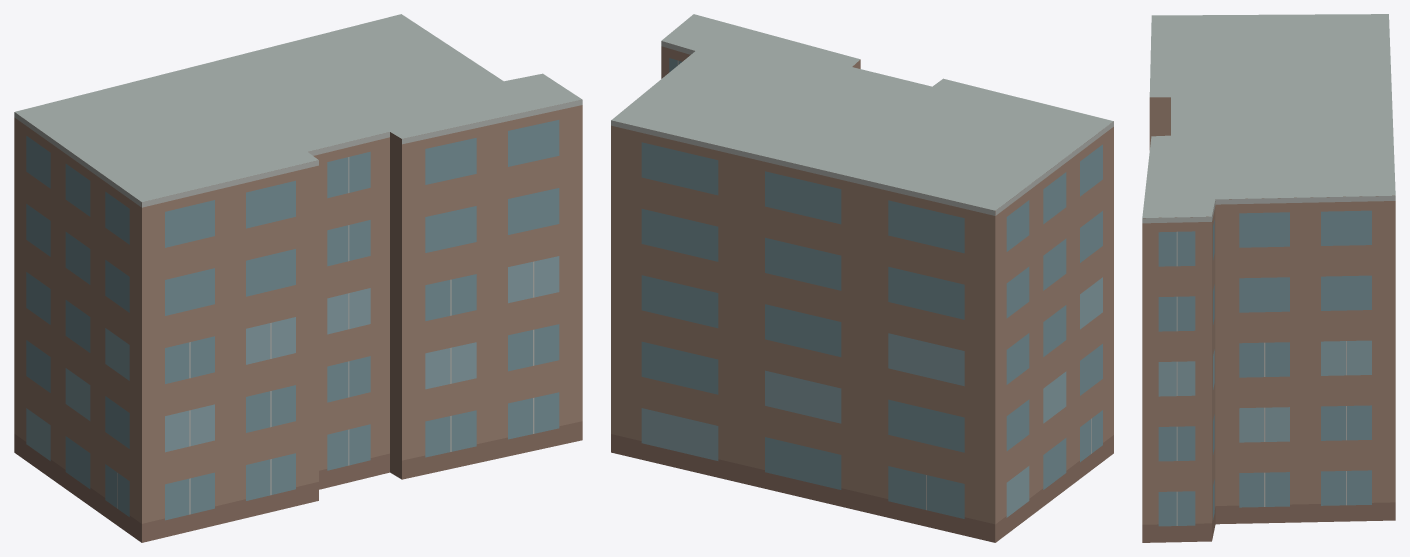
The model's file is survey-upis-32579464.glb.
3 renders of one model, left to right at view 1: azimuth 30°, elevation 25°; view 2: azimuth 150°, elevation 25°; view 3: azimuth 270°, elevation 25°, orthographic. The views are drawn at different scales.
Parts seen in each view (by area): view 1: survey-upis-32579464.tmp; view 2: survey-upis-32579464.tmp; view 3: survey-upis-32579464.tmp.
Part boxes in pixels (bbox=[...]): survey-upis-32579464.tmp: bbox=[14, 14, 582, 542]; survey-upis-32579464.tmp: bbox=[611, 14, 1113, 542]; survey-upis-32579464.tmp: bbox=[1142, 14, 1395, 542].
Bounding box in the file's own units: 20.57 × 15.25 × 10.8.
